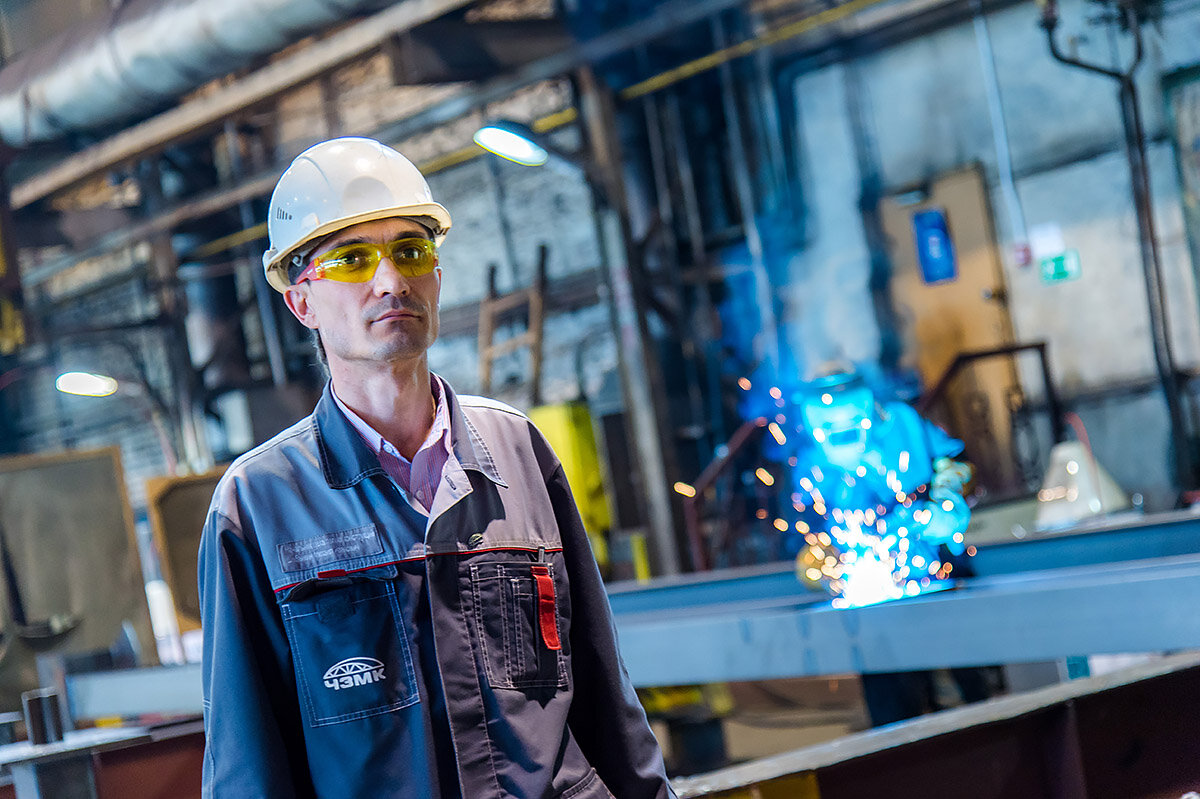person: (197, 137, 671, 799)
